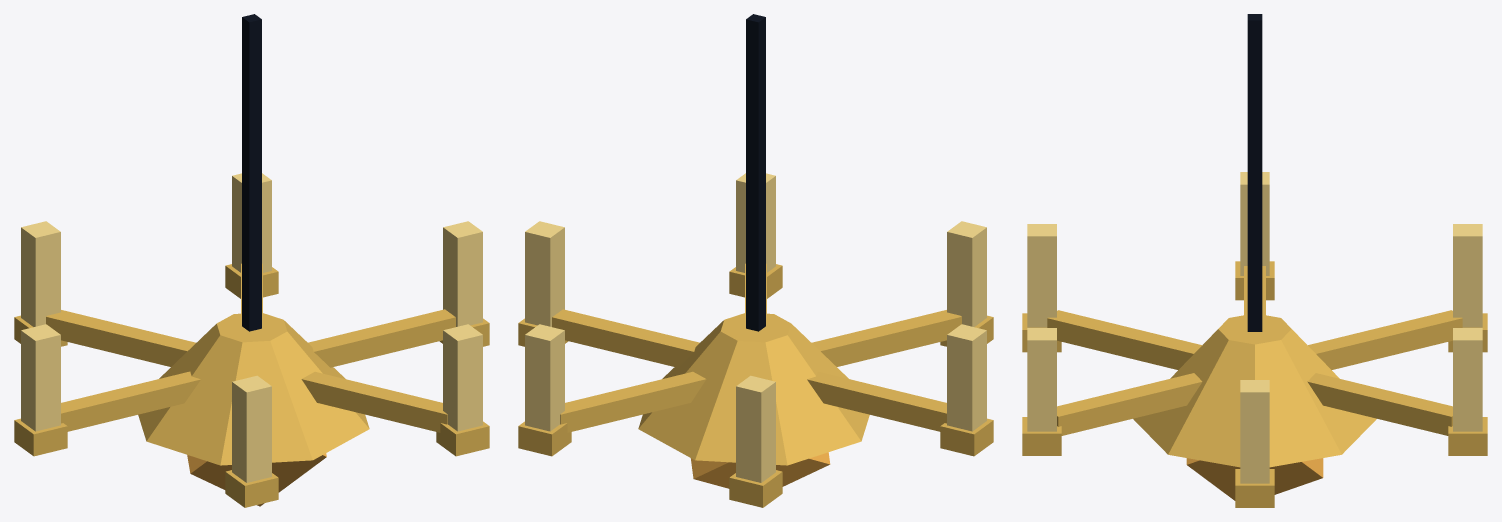
The model's file is prop_chandelier.glb.
The picture shows the model from 3 angles, left to right: view 1: azimuth 30°, elevation 25°; view 2: azimuth 150°, elevation 25°; view 3: azimuth 270°, elevation 25°; orthographic projection.
Visible parts, largest first — view 1: prop_chandelier; view 2: prop_chandelier; view 3: prop_chandelier.
Part boxes in pixels (bbox=[...]): prop_chandelier: bbox=[14, 14, 489, 507]; prop_chandelier: bbox=[518, 14, 993, 507]; prop_chandelier: bbox=[1022, 14, 1487, 507].
Bounding box in the file's own units: 2.16 × 2.19 × 1.89.
Materials: 1 (1 with a texture image).
